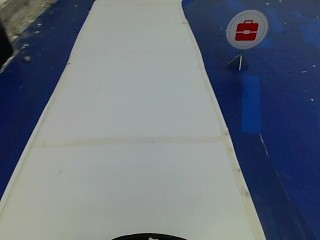company: (224, 8, 267, 49)
